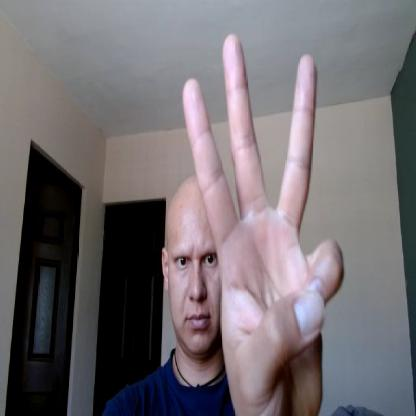W: (183, 33, 345, 415)
